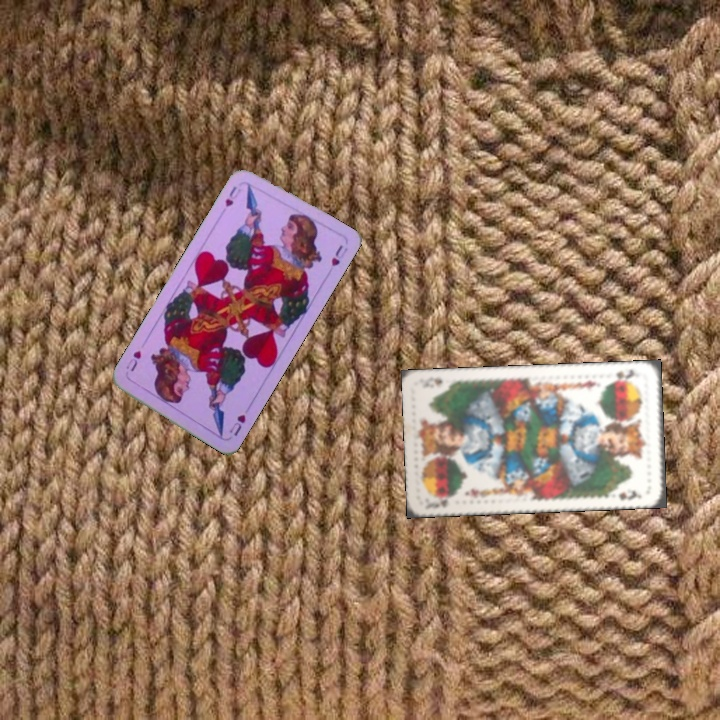HU: (225, 410, 248, 439), (221, 182, 244, 209)
SK: (607, 366, 642, 384), (431, 492, 459, 510)
